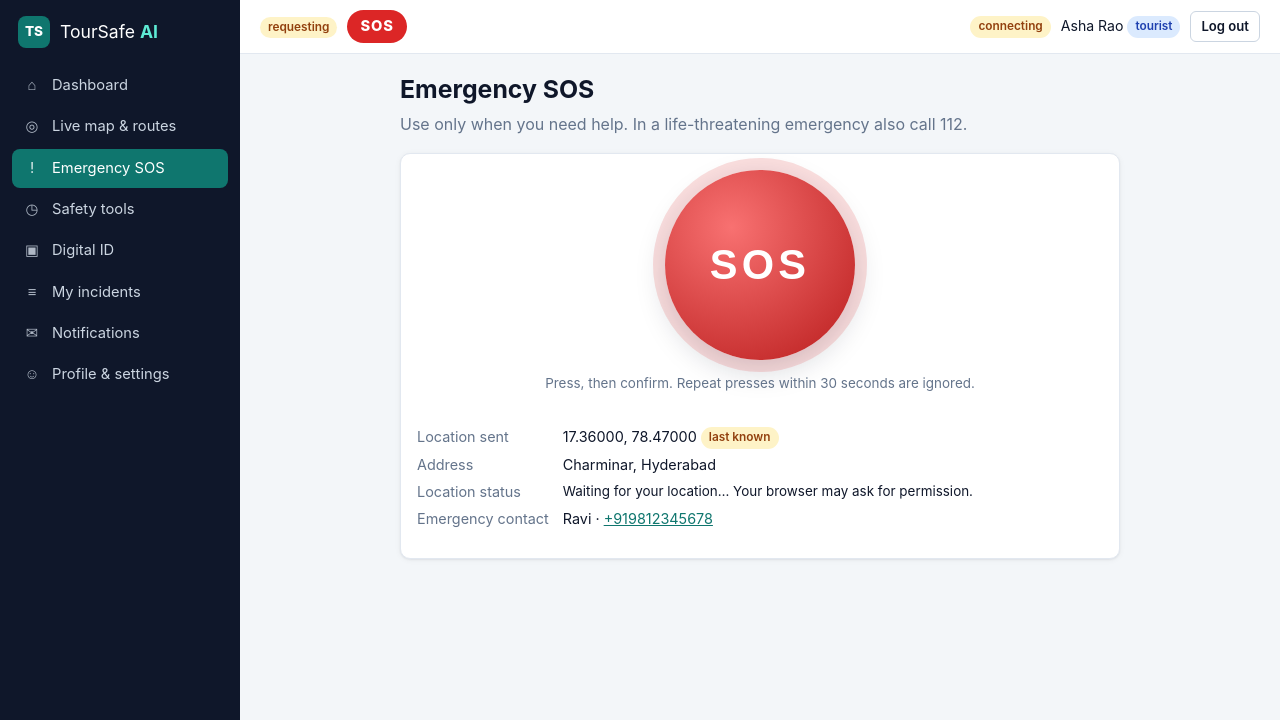
SOS › requires a confirmation step before creating the incident
Click the button "SOS": coordinates (760, 264) [665,170,855,360]
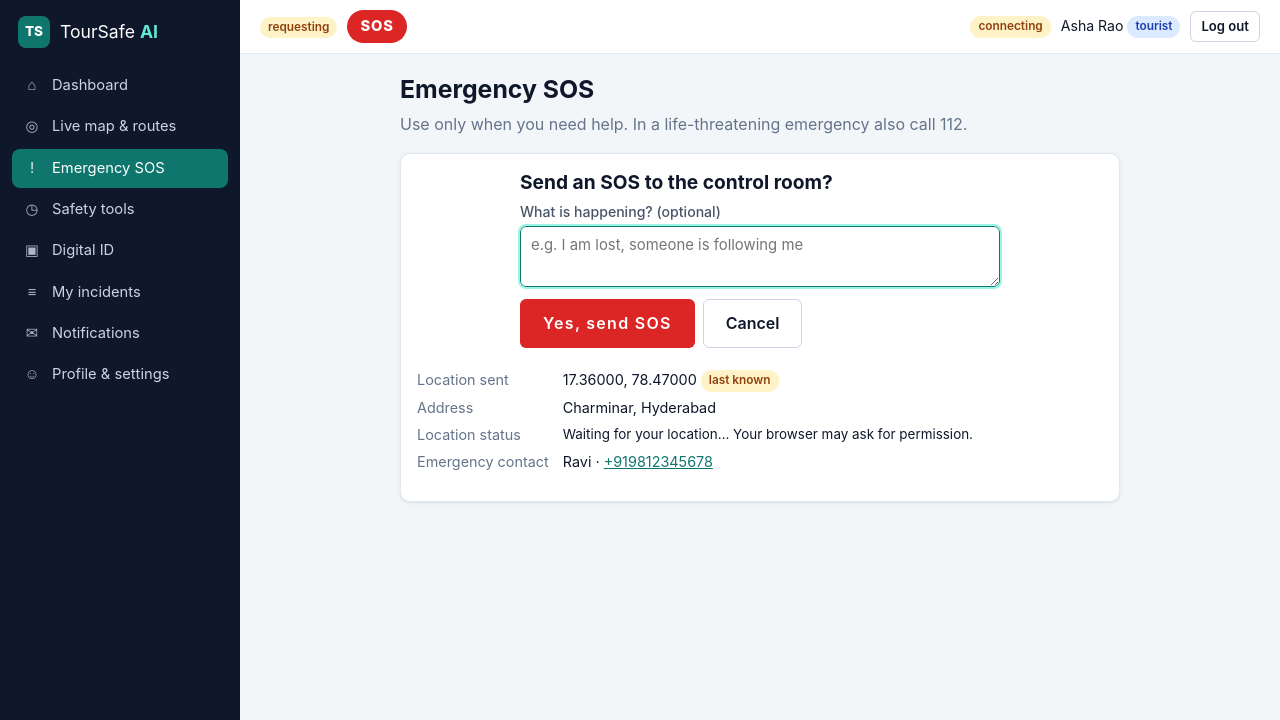
In the text box labelled "What is happening? (optional)": coordinates (760, 256) [520,226,1000,287], type "Lost"
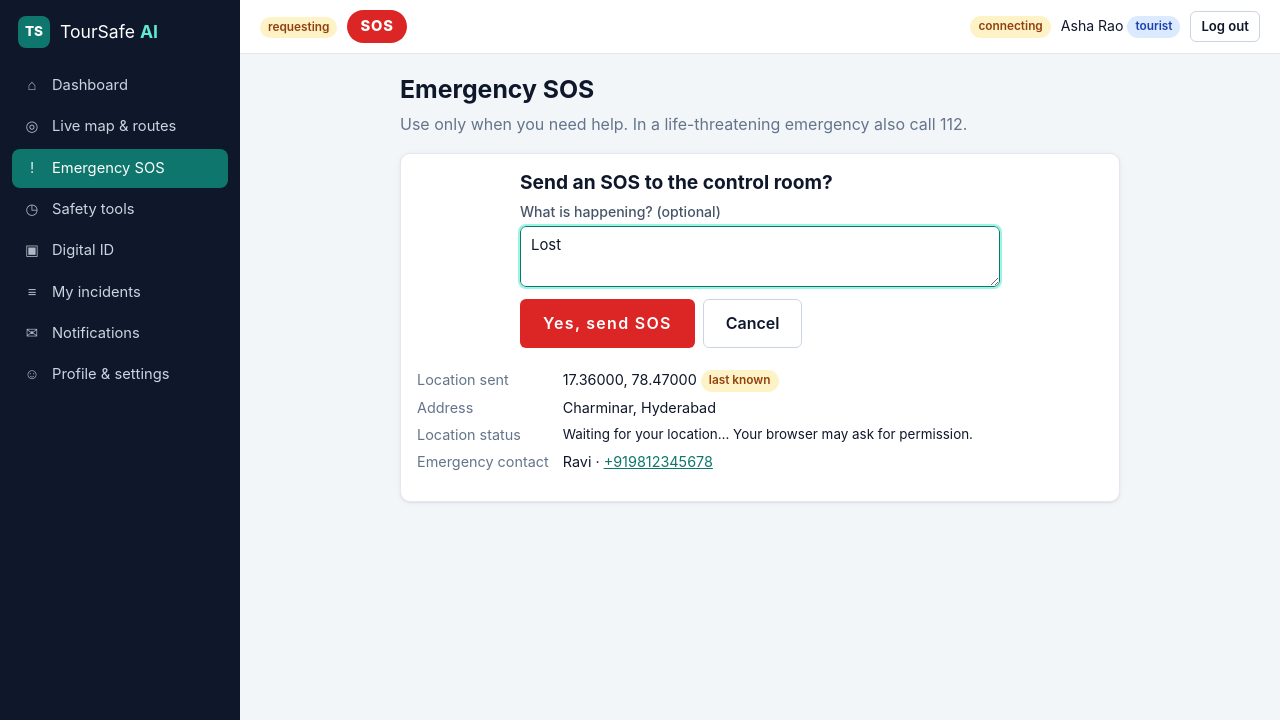
Click the button "Yes, send SOS": coordinates (607, 324) [520,299,695,348]
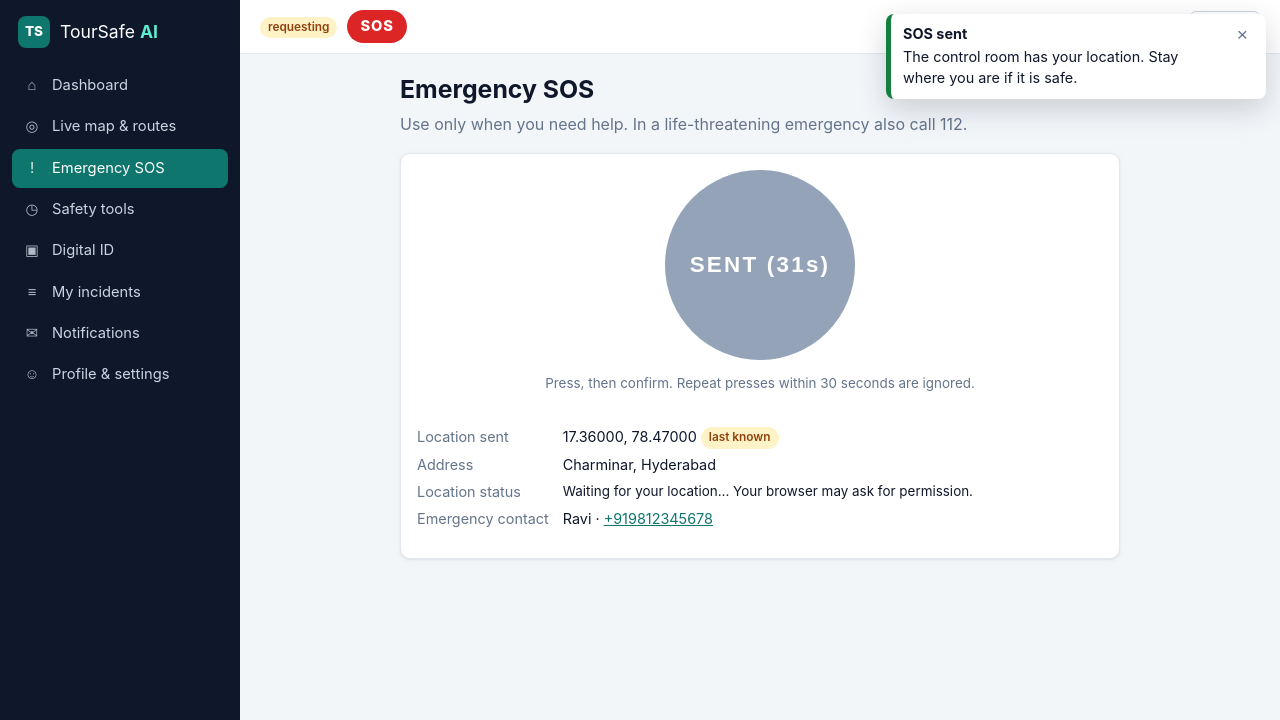
Expected: the text "Charminar, Hyderabad" is shown, [563,456,716,473]
Now the text "The control room has your location" is shown, box [903,48,1178,86]
